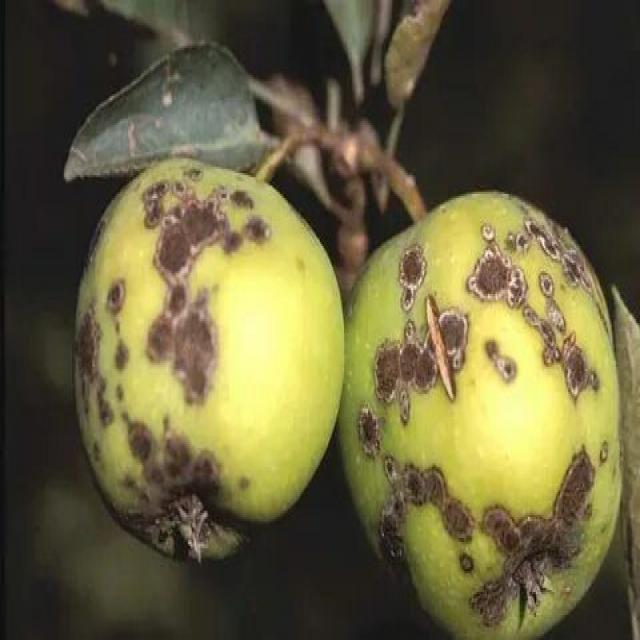Rotten: (341, 186, 640, 640), (75, 180, 342, 572)
